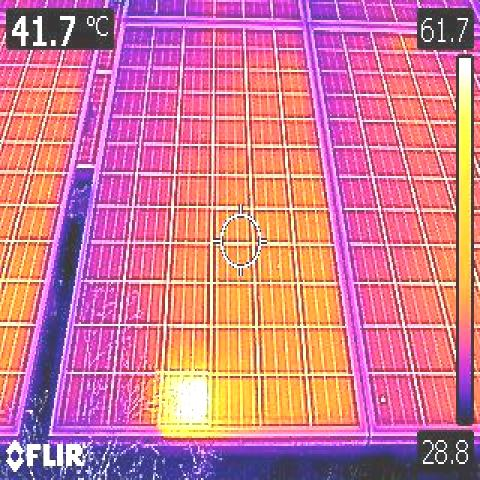fault: (156, 370, 208, 430)
